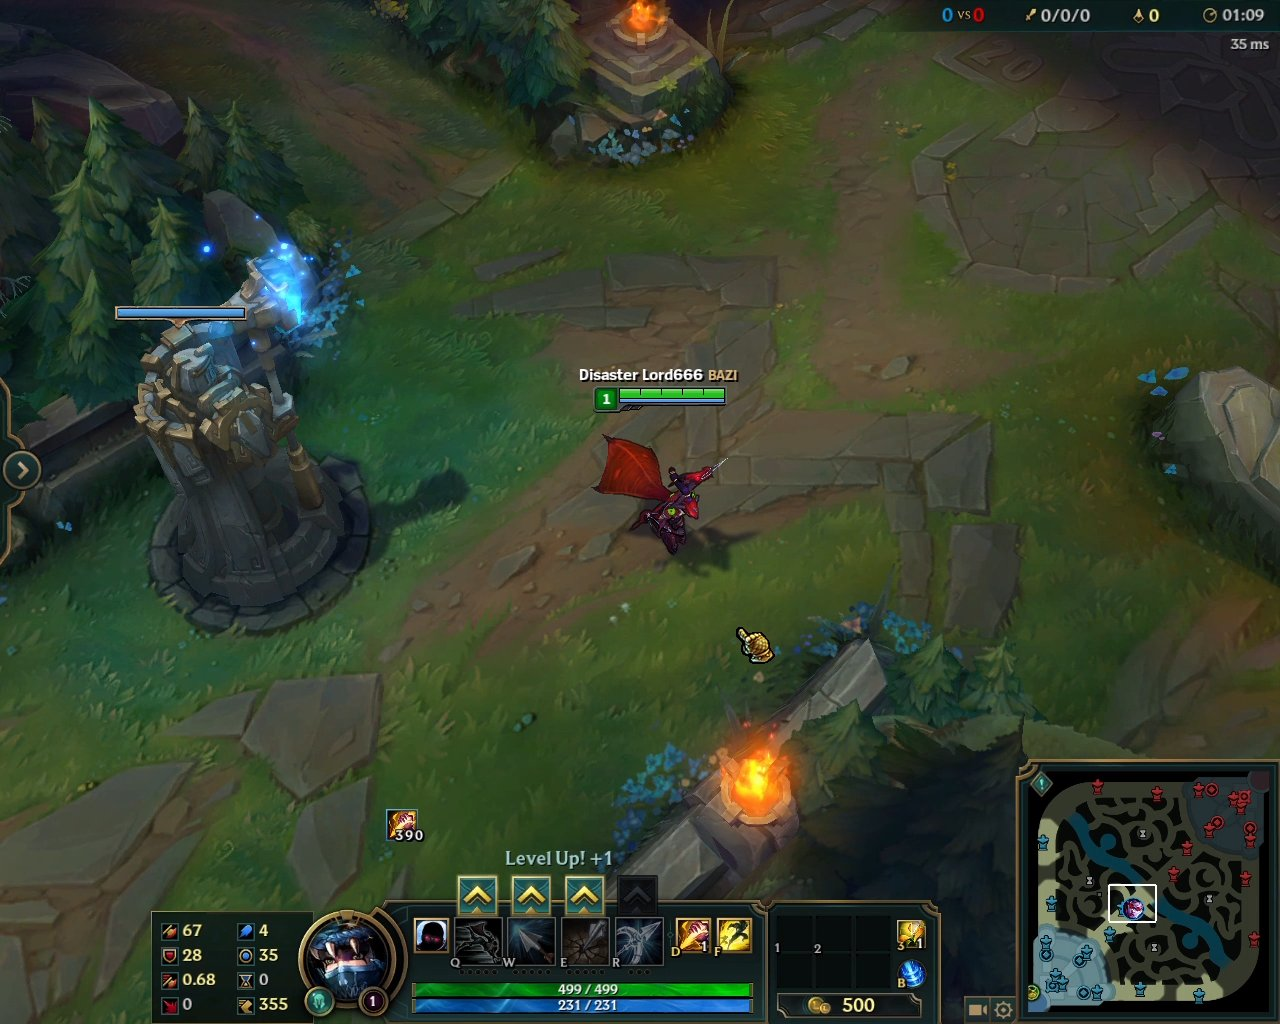Vayne: (587, 433, 744, 560)
